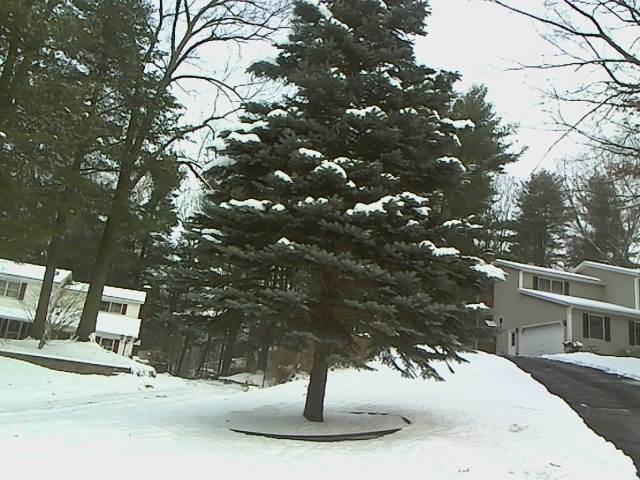Ploughed: (510, 349, 639, 438)
